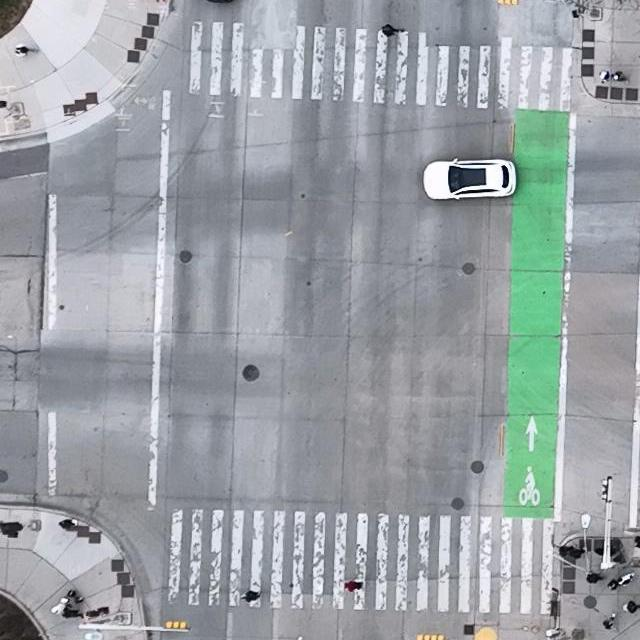car: (421, 156, 517, 200)
